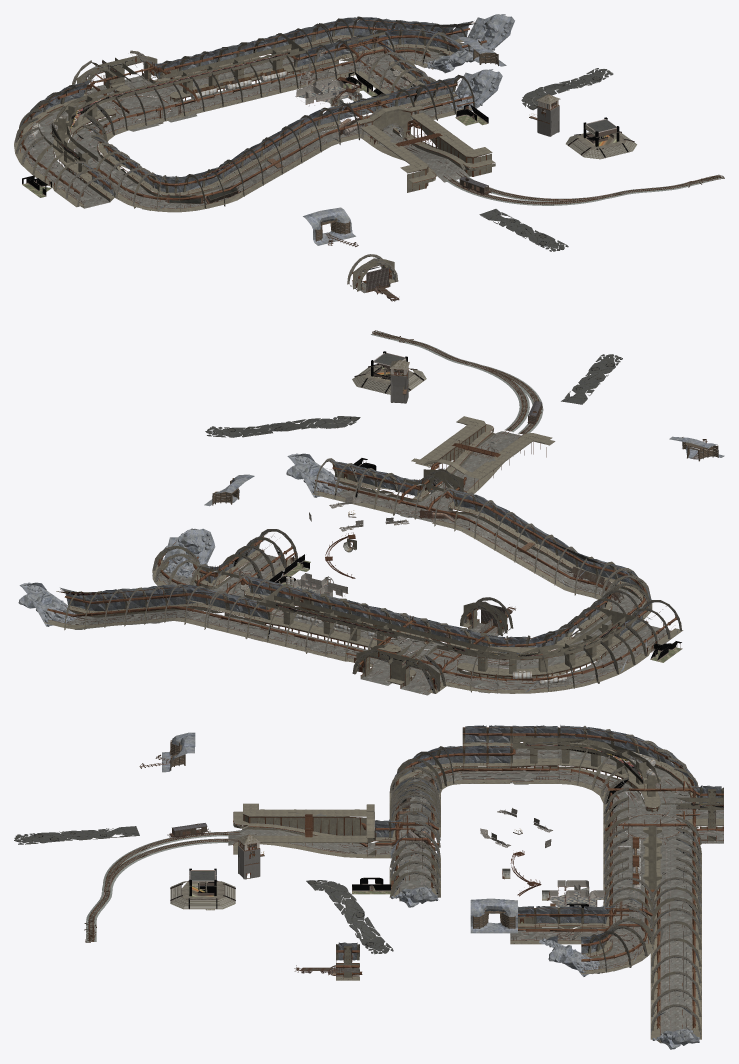
Rendered from military_tunnel_1-mid.glb.
3 views of the same model, one above another, from view 1: azimuth 30°, elevation 25°; view 2: azimuth 150°, elevation 25°; view 3: azimuth 270°, elevation 25° (orthographic). The views are drawn at different scales.
Visible parts, largest first — view 1: sewer_tunnel_door_LOD0, mine_tnl_entrance_LOD0, tunnel.single.entrance_LOD0, corridor_train_tunnel_entrance_b_LOD0, mine_tnl_entrance_rail, train_wagon_b_LOD0, bunker.room.21.ad_LOD0, bunker.room.15.aa, watch_tower_d_LOD0, road_nopavement_9x15_end_LOD0, fuel_tank_b_600 (1); view 2: sewer_tunnel_door_LOD0, mine_tnl_entrance_LOD0, tunnel.single.entrance_LOD0, corridor_train_tunnel_entrance_b_LOD0, mine_tnl_entrance_rail, road_nopavement_9x15_end_LOD0, train_wagon_b_LOD0, watch_tower_d_LOD0, bunker.room.15.aa, fuel_tank_b_600 (1), bunker.room.21.ad_LOD0; view 3: sewer_tunnel_door_LOD0, tunnel.single.entrance_LOD0, mine_tnl_entrance_LOD0, corridor_train_tunnel_entrance_b_LOD0, mine_tnl_entrance_rail, road_nopavement_9x15_end_LOD0, bunker.room.21.ad_LOD0, train_wagon_b_LOD0, watch_tower_d_LOD0, wall_conc_300x300, bunker.room.15.aa.
Part boxes in pixels (<box>): sewer_tunnel_door_LOD0: <box>14,16,559,292</box>; mine_tnl_entrance_LOD0: <box>14,14,559,289</box>; tunnel.single.entrance_LOD0: <box>21,19,557,293</box>; corridor_train_tunnel_entrance_b_LOD0: <box>18,20,636,277</box>; mine_tnl_entrance_rail: <box>29,50,724,288</box>; train_wagon_b_LOD0: <box>165,116,491,301</box>; bunker.room.21.ad_LOD0: <box>295,77,357,105</box>; bunker.room.15.aa: <box>22,72,488,197</box>; watch_tower_d_LOD0: <box>536,94,559,136</box>; road_nopavement_9x15_end_LOD0: <box>481,69,612,251</box>; fuel_tank_b_600 (1): <box>27,69,359,140</box>; sewer_tunnel_door_LOD0: <box>44,375,683,693</box>; mine_tnl_entrance_LOD0: <box>18,369,724,692</box>; tunnel.single.entrance_LOD0: <box>58,372,671,695</box>; corridor_train_tunnel_entrance_b_LOD0: <box>56,351,681,672</box>; mine_tnl_entrance_rail: <box>67,330,707,693</box>; road_nopavement_9x15_end_LOD0: <box>206,354,620,437</box>; train_wagon_b_LOD0: <box>418,401,624,615</box>; watch_tower_d_LOD0: <box>389,360,409,403</box>; bunker.room.15.aa: <box>270,458,682,662</box>; fuel_tank_b_600 (1): <box>286,576,566,686</box>; bunker.room.21.ad_LOD0: <box>289,573,347,601</box>; sewer_tunnel_door_LOD0: <box>233,725,723,1042</box>; tunnel.single.entrance_LOD0: <box>228,727,723,1043</box>; mine_tnl_entrance_LOD0: <box>162,725,723,1049</box>; corridor_train_tunnel_entrance_b_LOD0: <box>14,726,723,956</box>; mine_tnl_entrance_rail: <box>84,752,723,1030</box>; road_nopavement_9x15_end_LOD0: <box>14,827,390,954</box>; bunker.room.21.ad_LOD0: <box>549,880,604,907</box>; train_wagon_b_LOD0: <box>167,776,432,973</box>; watch_tower_d_LOD0: <box>237,834,260,879</box>; wall_conc_300x300: <box>336,808,552,972</box>; bunker.room.15.aa: <box>352,726,604,923</box>.
Bounding box in the file's own units: 259 × 87.3 × 270.
52 materials, 52 textured.
